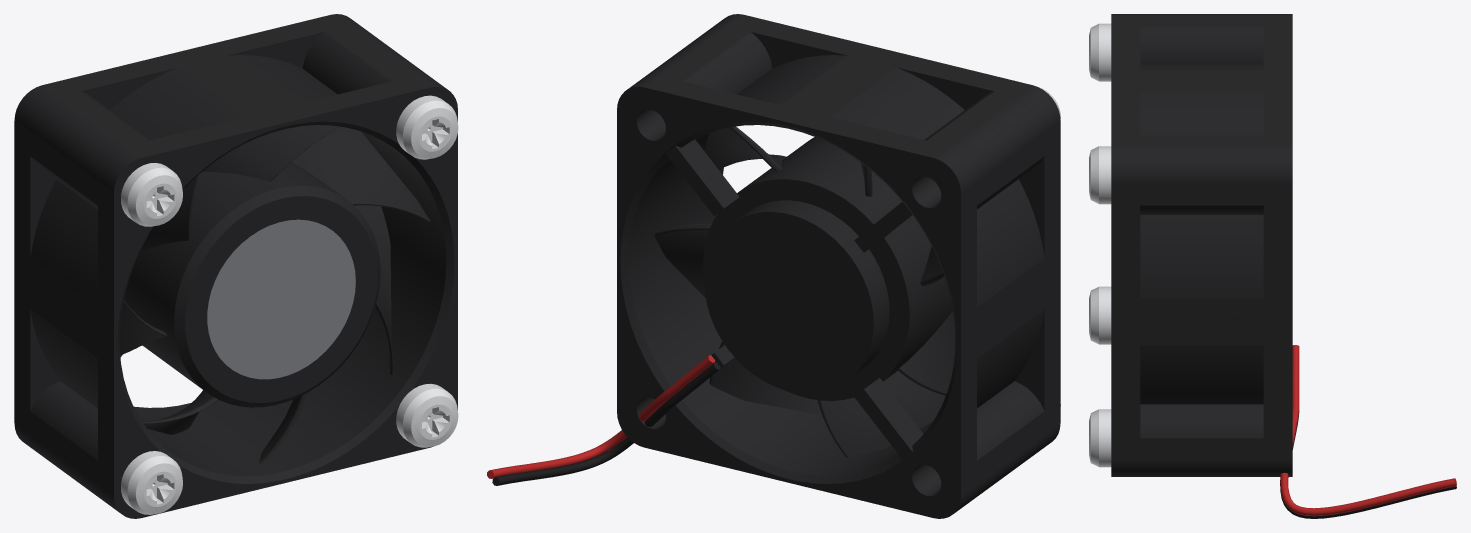
Rendered from fan.glb.
3 views of the same model, side by side, from view 1: azimuth 30°, elevation 25°; view 2: azimuth 150°, elevation 25°; view 3: azimuth 270°, elevation 25° (orthographic). The views are drawn at different scales.
Parts seen in each view (by area): view 1: fan; view 2: fan; view 3: fan.
Part boxes in pixels (x1,y1,x2,y2): fan: [14, 14, 458, 518]; fan: [487, 14, 1060, 518]; fan: [1089, 14, 1456, 518].
Size of the model in its own units: 44.74 by 42.85 by 40.57.
